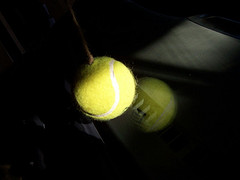tennis ball: (74, 55, 137, 122), (123, 74, 179, 133)
